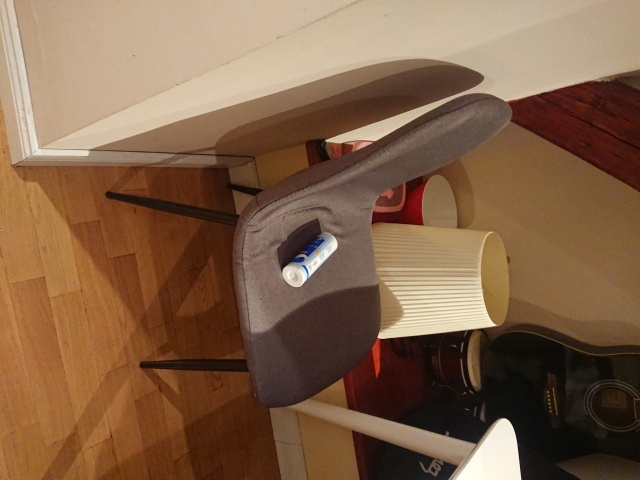Solana Pag Fine Sea Salt 250g: (280, 229, 341, 290)
